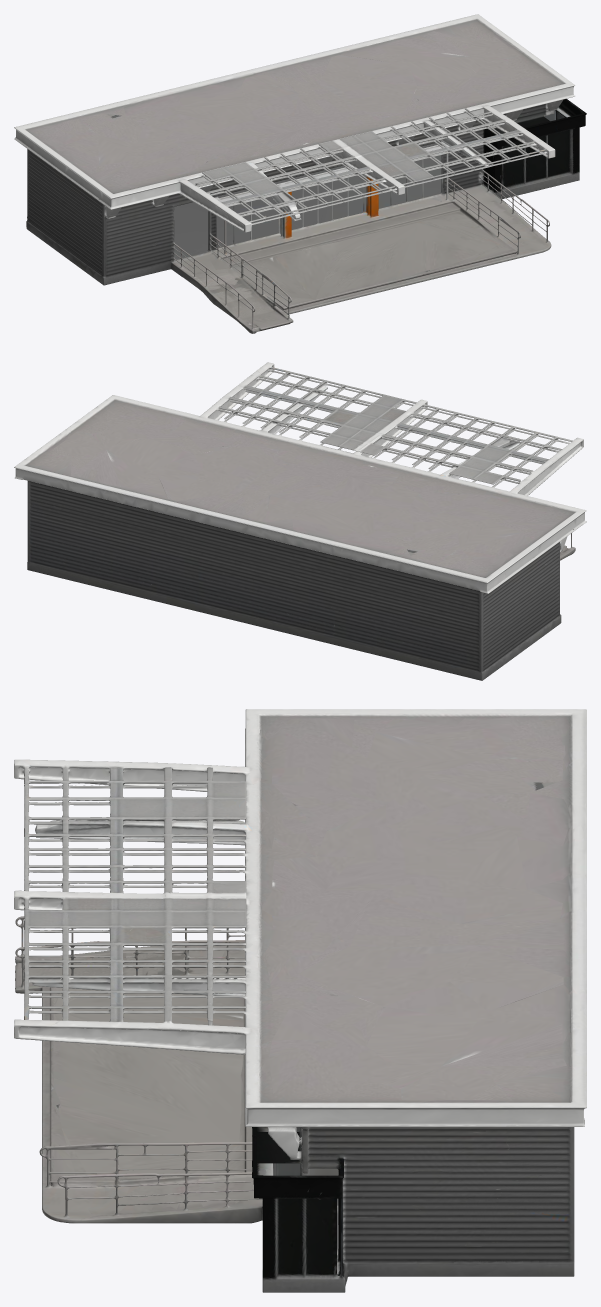
The model's file is citc.glb.
The picture shows the model from 3 angles, top to bottom: view 1: azimuth 30°, elevation 25°; view 2: azimuth 150°, elevation 25°; view 3: azimuth 270°, elevation 25°; orthographic projection. The views are drawn at different scales.
Parts seen in each view (by area): view 1: Meshy_AI_Glass_Canopy_Terminal_0814112349_texture; view 2: Meshy_AI_Glass_Canopy_Terminal_0814112349_texture; view 3: Meshy_AI_Glass_Canopy_Terminal_0814112349_texture.
Part boxes in pixels (x1,y1,x2,y2): Meshy_AI_Glass_Canopy_Terminal_0814112349_texture: [14, 14, 586, 333]; Meshy_AI_Glass_Canopy_Terminal_0814112349_texture: [14, 362, 586, 680]; Meshy_AI_Glass_Canopy_Terminal_0814112349_texture: [14, 709, 586, 1292].
Bounding box in the file's own units: 1.9 × 0.4272 × 1.12.
Materials: 1 (1 with a texture image).
